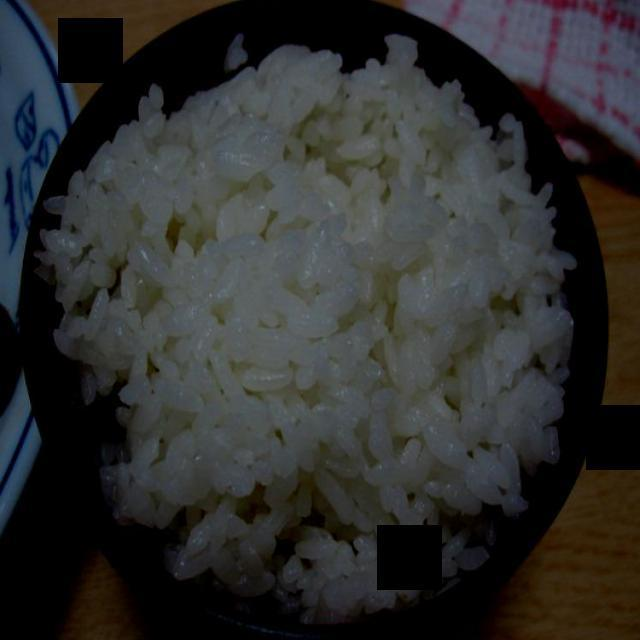rice: (33, 26, 580, 624)
